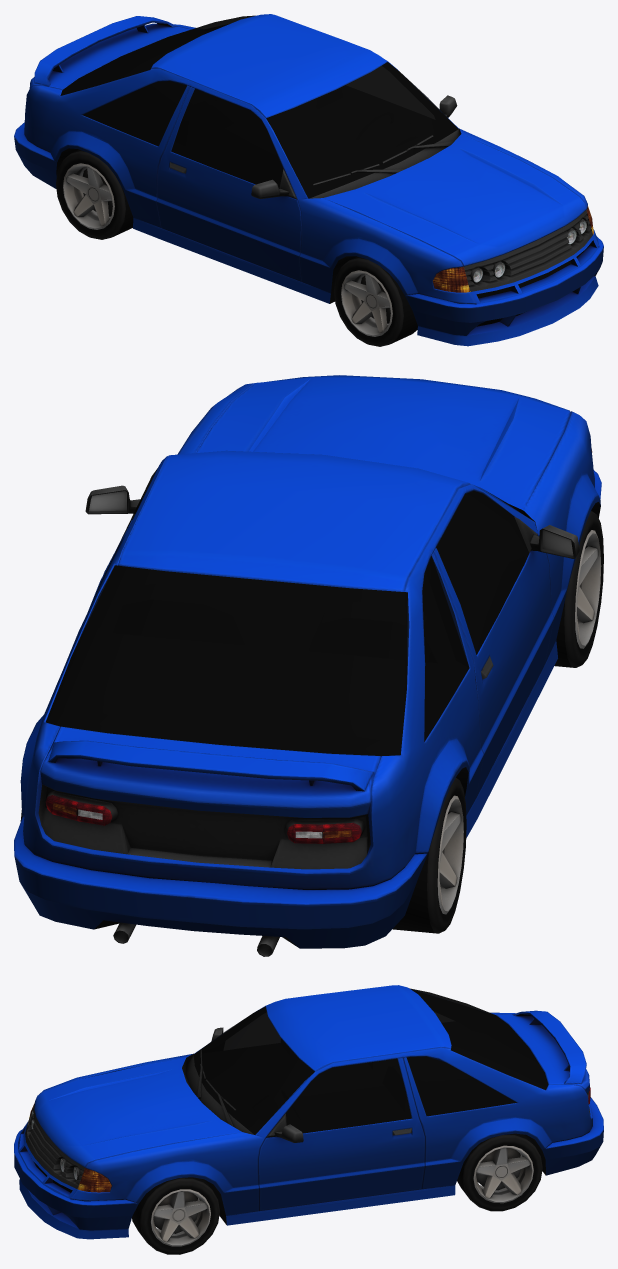
File: car_coupe.glb
3 views of the same model, one above another, from view 1: azimuth 30°, elevation 25°; view 2: azimuth 150°, elevation 25°; view 3: azimuth 270°, elevation 25° (orthographic). The views are drawn at different scales.
Parts seen in each view (by area): view 1: Coupe_Body, Wheel_F002, Wheel_F003; view 2: Coupe_Body, Wheel_F003, Wheel_F002; view 3: Coupe_Body, Wheel_F, Wheel_F001.
Boxes of the visible parts, <box> form: Coupe_Body: <box>14,14,603,346</box>; Wheel_F002: <box>334,256,417,346</box>; Wheel_F003: <box>56,149,133,239</box>; Coupe_Body: <box>14,375,601,956</box>; Wheel_F003: <box>392,778,466,933</box>; Wheel_F002: <box>554,510,603,667</box>; Coupe_Body: <box>14,985,603,1239</box>; Wheel_F: <box>132,1177,219,1254</box>; Wheel_F001: <box>457,1133,542,1211</box>.
Bounding box in the file's own units: 2.5 × 1.28 × 4.2.
4 materials, 3 textured.
